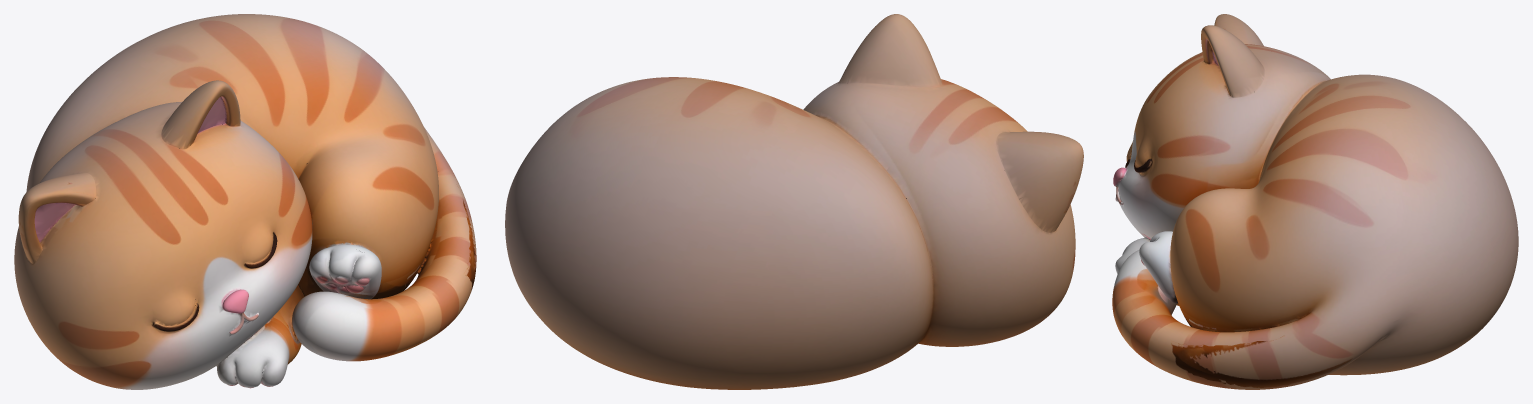
Rendered from cat.glb.
3 views of the same model, side by side, from view 1: azimuth 30°, elevation 25°; view 2: azimuth 150°, elevation 25°; view 3: azimuth 270°, elevation 25° (orthographic). The views are drawn at different scales.
Visible parts, largest first — view 1: lo; view 2: lo; view 3: lo.
Boxes of the visible parts, left/top/right/bottom form: lo: left=14, top=14, right=476, bottom=389; lo: left=505, top=14, right=1083, bottom=389; lo: left=1112, top=14, right=1518, bottom=389.
Size of the model in its own units: 1.11 by 0.6179 by 0.8825.
Materials: 1 (1 with a texture image).
